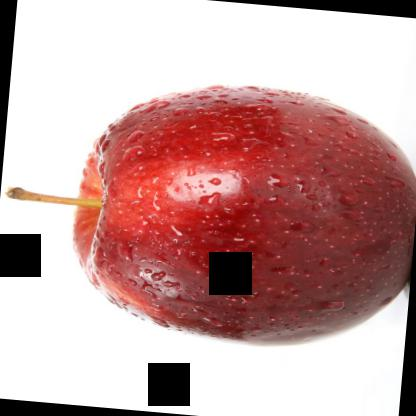apple: (10, 67, 415, 357)
